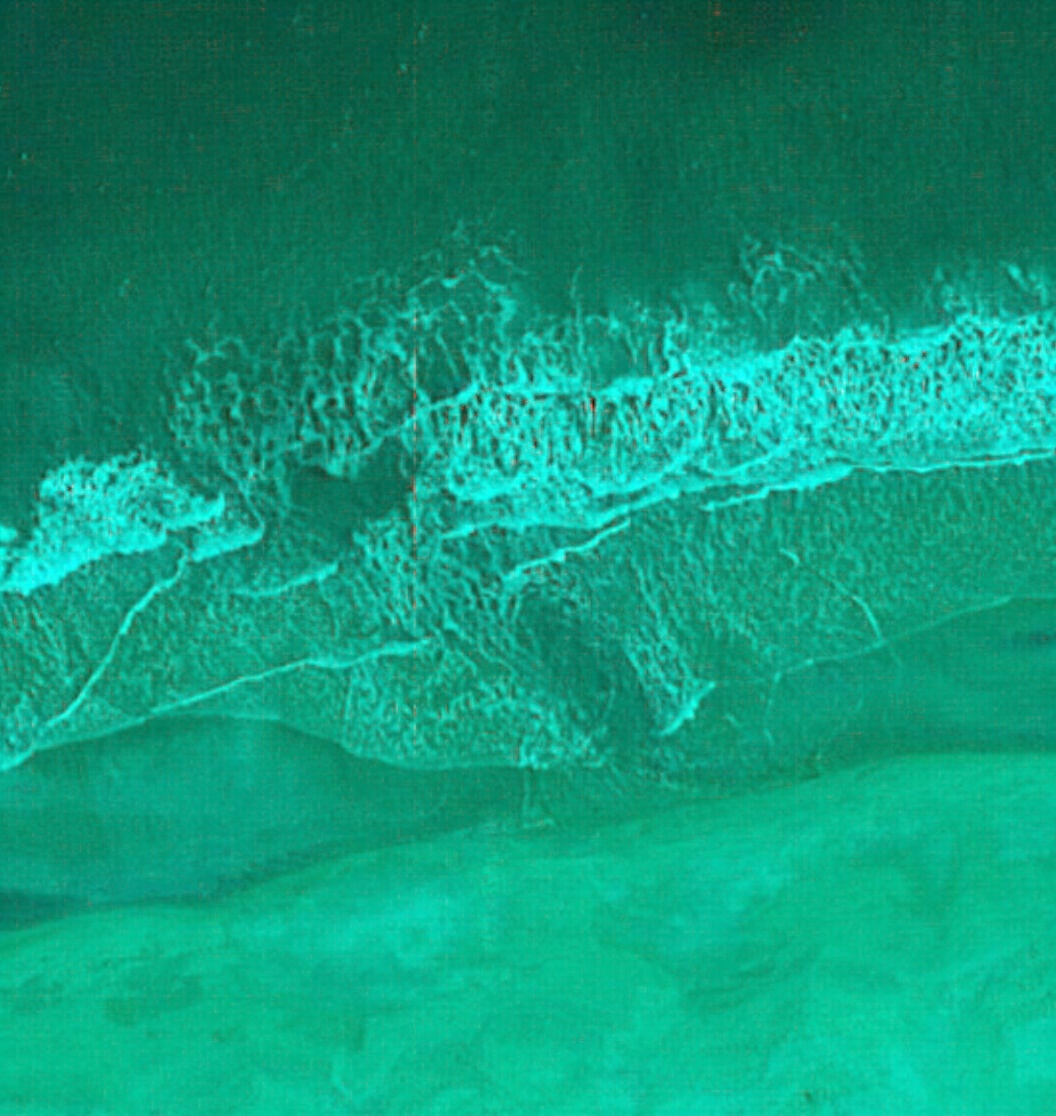rip_current: (196, 355, 735, 804)
